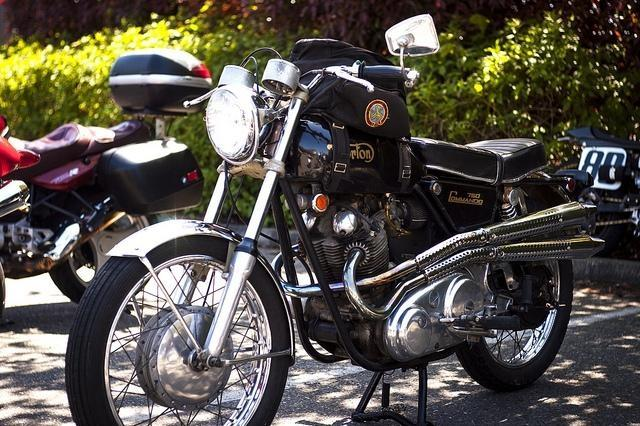motorcycle: (62, 11, 608, 421), (1, 110, 212, 313), (555, 123, 640, 259)
